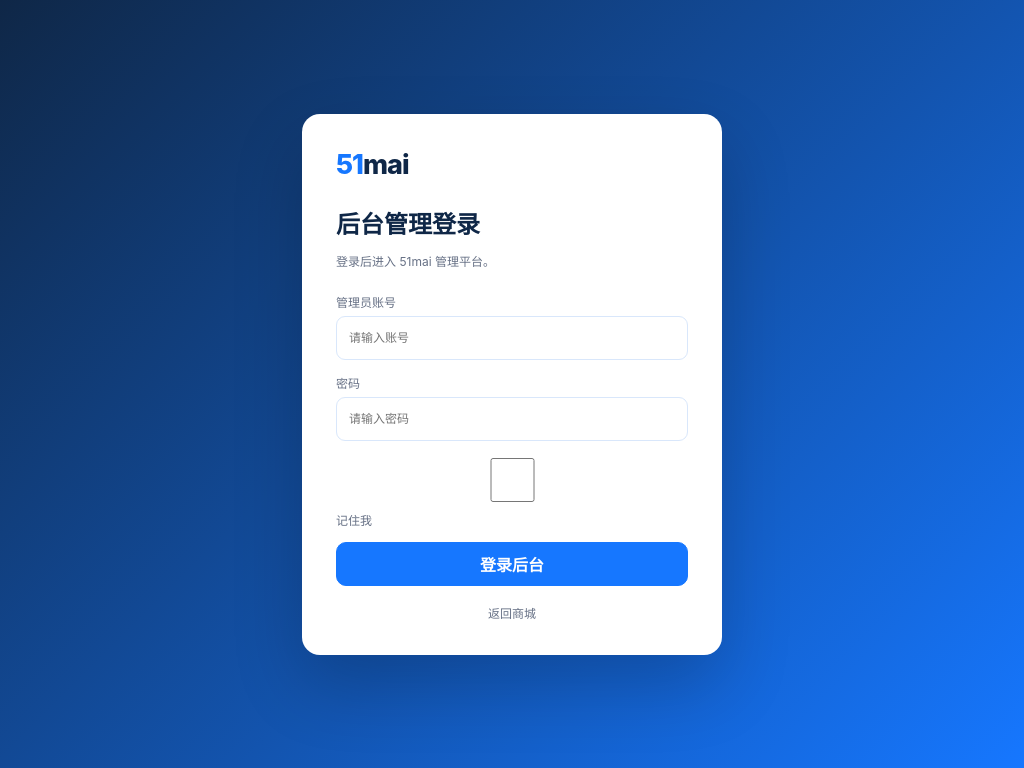
it: 管理员真实认证接入 › 管理员凭证错误显示通用凭证提示
In the field labelled "管理员账号": point(512, 338) [336,316,688,360], type "admin"
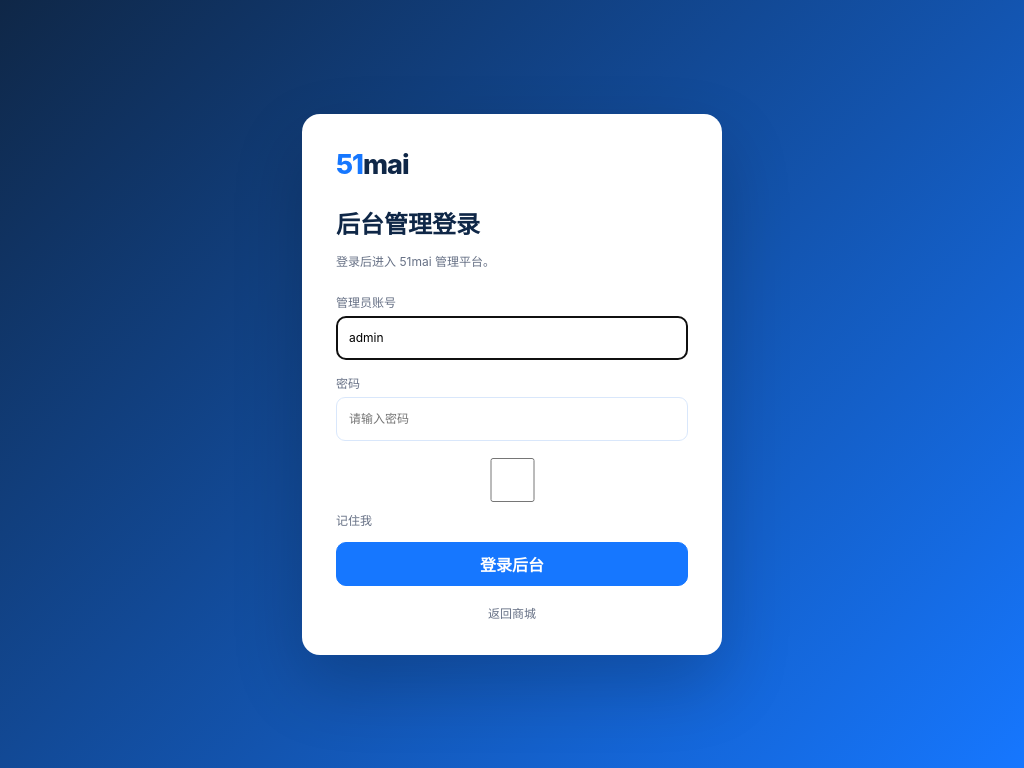
In the password field named "管理员密码": point(512, 418) [336,396,688,440], type "wrong-pass"
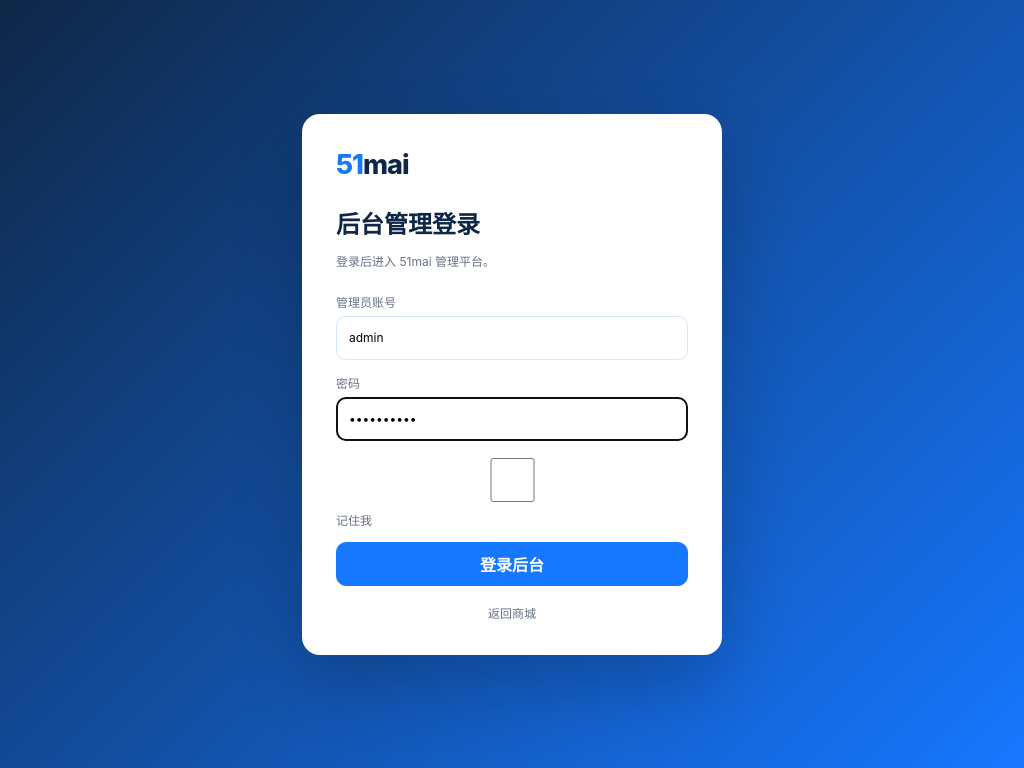
Click the button "登录后台": point(512, 564) [336,542,688,586]
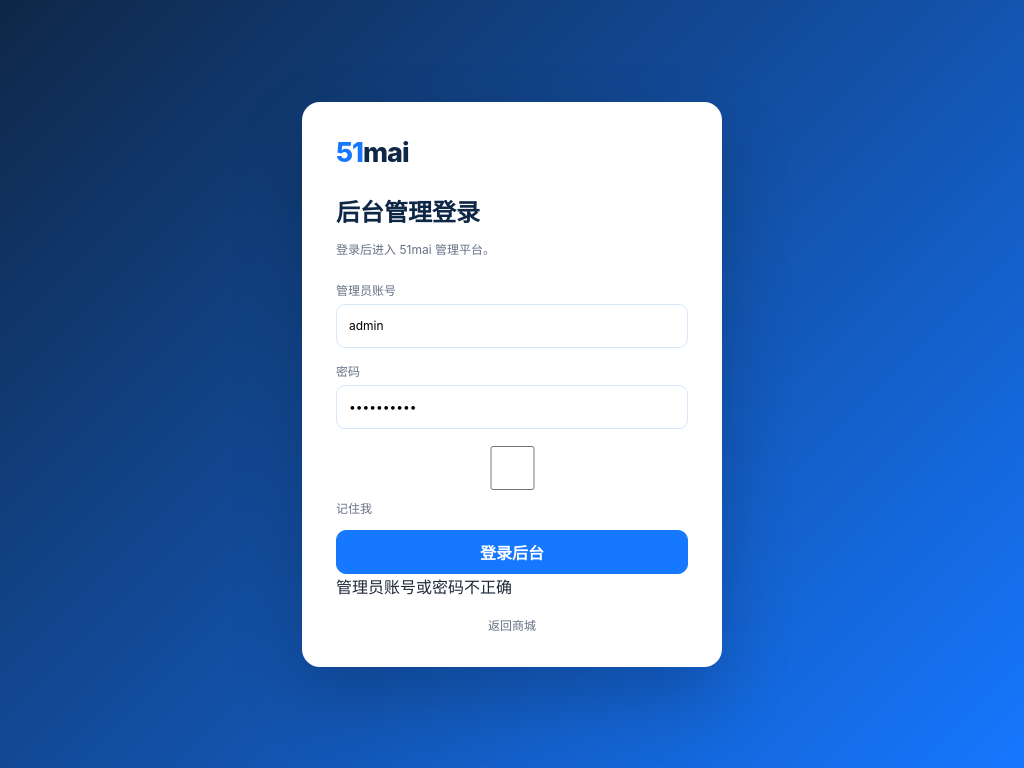
Check: the message reads "管理员账号或密码不正确", box [336,576,512,596]
